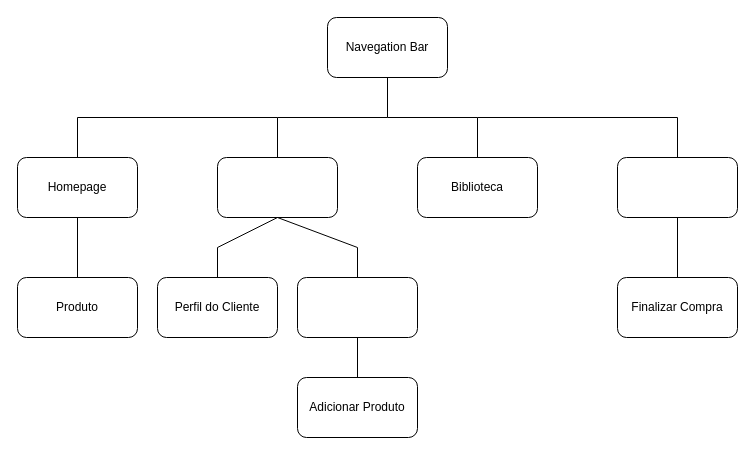
Some shapes in this 755 by 455 pixel diagram are drawn without their labels. The shapes that lost their labels are listed below. From the top down, each one's centre as x and y in pixels, then its label:
At point 277,187: "Login".
At point 677,187: "Carrinho".
At point 357,307: "Perfil do ADM".
